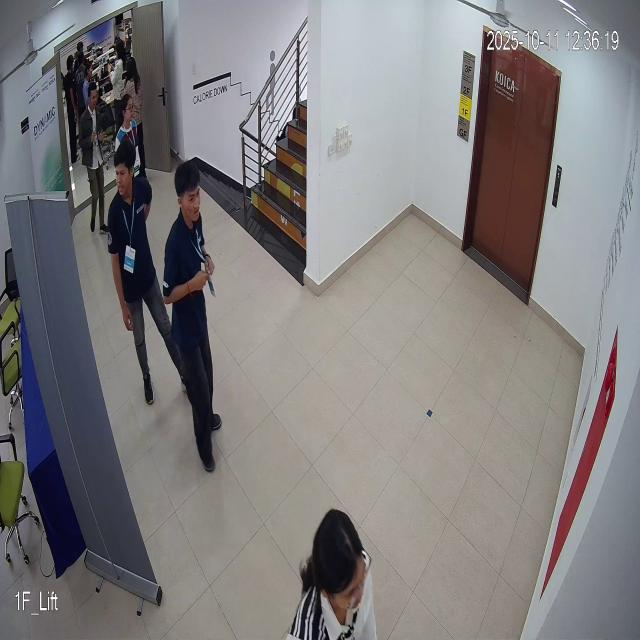face: (170, 150, 206, 221), (113, 136, 139, 203)
